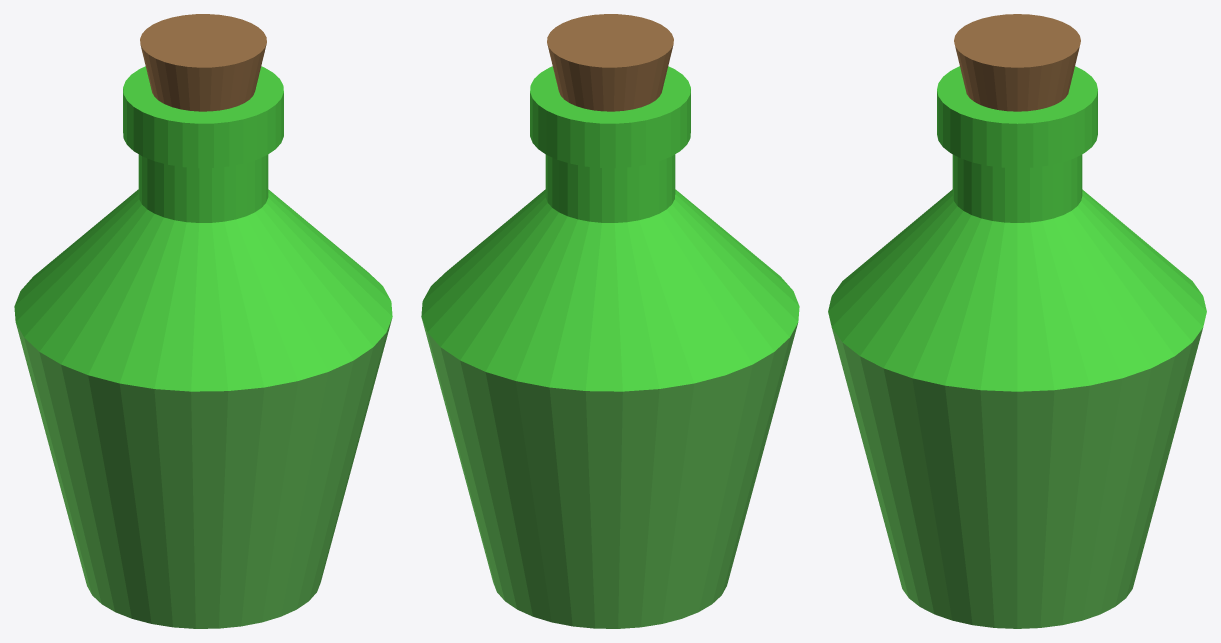
The model's file is BirdsPotions.fbx.
3 views of the same model, side by side, from view 1: azimuth 30°, elevation 25°; view 2: azimuth 150°, elevation 25°; view 3: azimuth 270°, elevation 25° (orthographic).
Visible parts, largest first — view 1: Potion2; view 2: Potion2; view 3: Potion2.
Part boxes in pixels (bbox=[...]): Potion2: bbox=[14, 14, 392, 628]; Potion2: bbox=[421, 14, 799, 628]; Potion2: bbox=[828, 14, 1206, 628].
Size of the model in its own units: 200 by 314 by 200.
